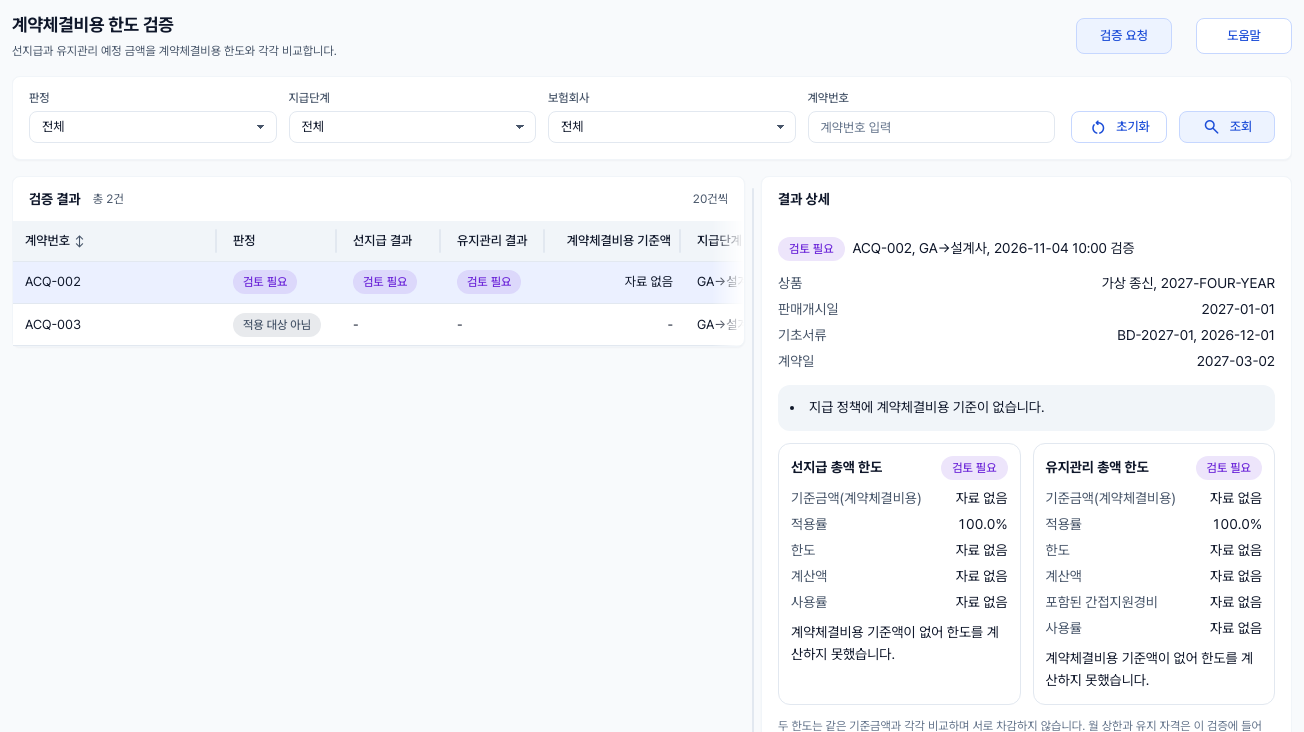
it: ACQC-W01 결과 표시 › 자료 없음은 0원으로 보이지 않고 검토 필요와 적용 대상 아님을 구분한다
This screenshot has width=1304, height=732.
Expected: the text "자료 없음" is shown, [549,262,685,304]
Expected: the text "검토 필요" in the row of "선지급 총액" is shown, [952,461,996,475]
Step 1. Click the row named "계약 ACQ-003 결과 보기" → (652, 324), box [13,304,1292,346]
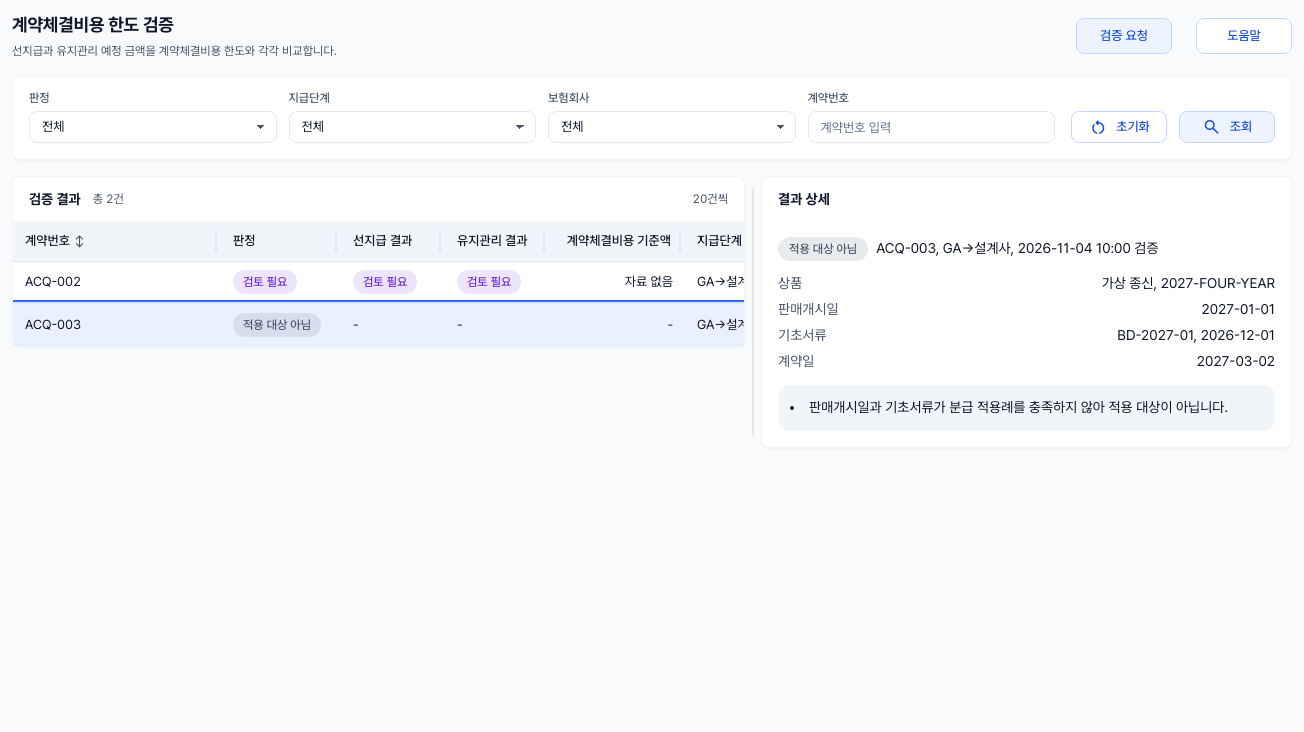
Expected: the list named "판정 사유" shows "적용 대상이 아닙니다", [809,399,1228,415]
